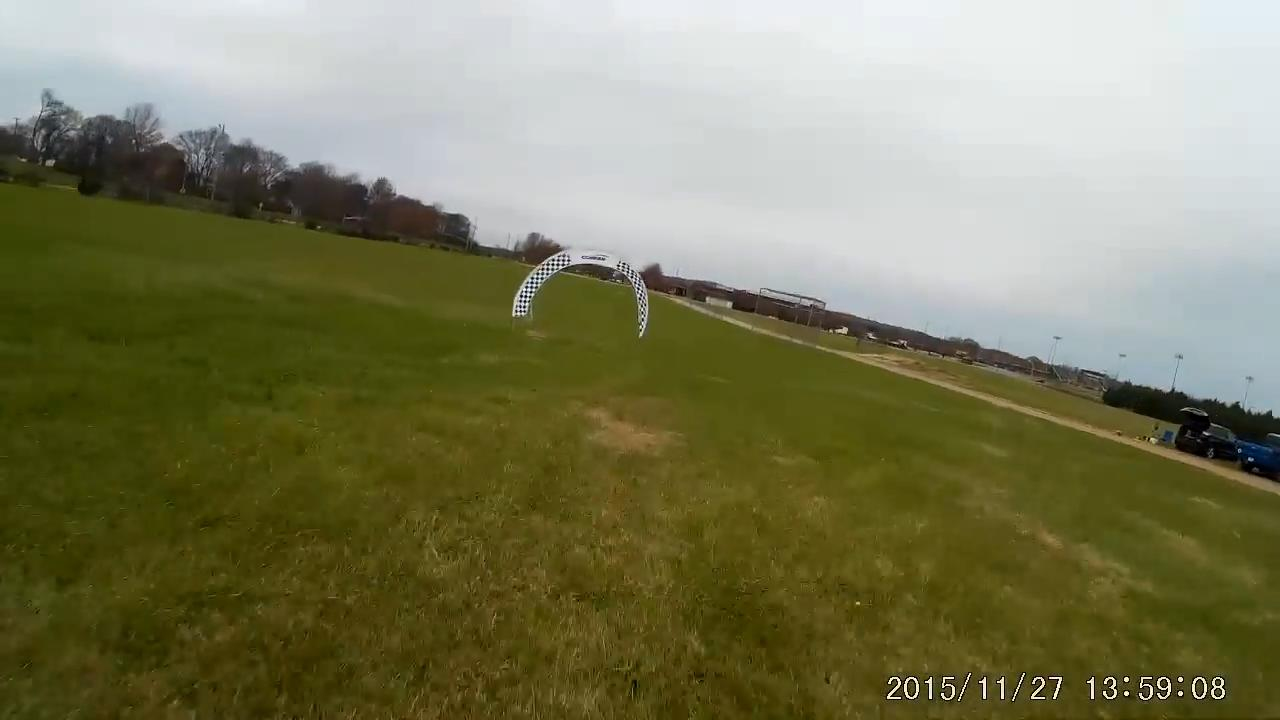gate: (510, 246, 649, 342)
